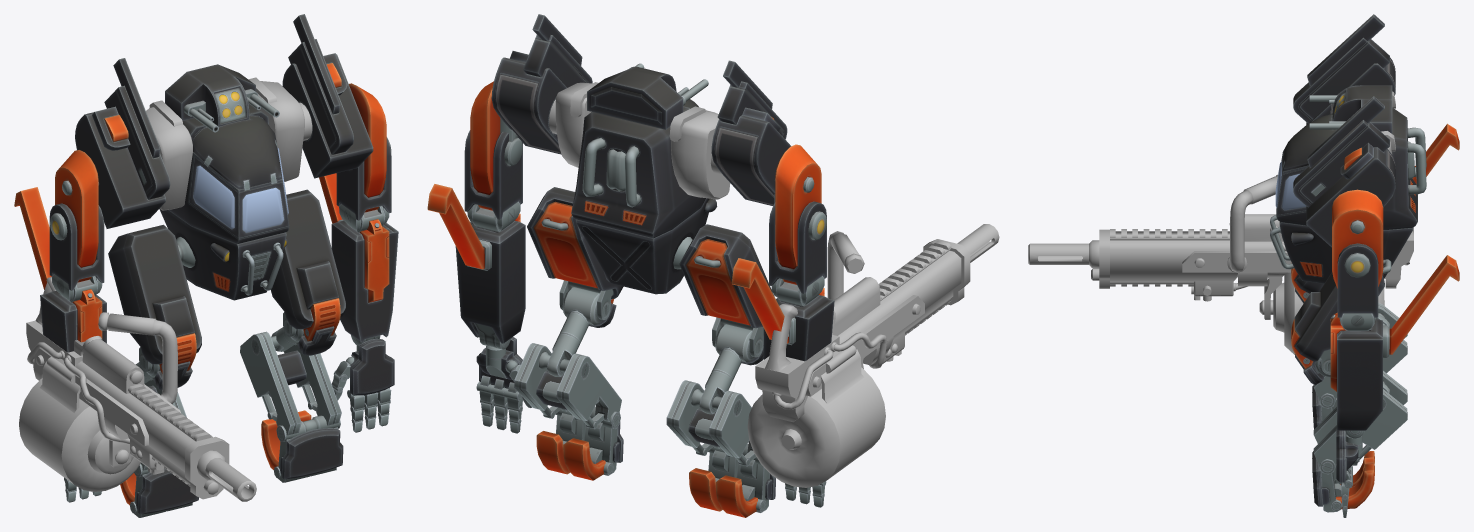
The model's file is robot_2_destroy.fbx.
The picture shows the model from 3 angles, left to right: view 1: azimuth 30°, elevation 25°; view 2: azimuth 150°, elevation 25°; view 3: azimuth 270°, elevation 25°; orthographic projection. The views are drawn at different scales.
Visible parts, largest first — view 1: gun_2, thigh, shoulder_pad, body_module.002, forearm, arm, foot, shin, butt_module, polySurface4, polySurface1, palm (+1 smaller); view 2: gun_2, body_module.002, arm, shoulder_pad, forearm, thigh, shin, foot, butt_module, knee, polySurface1, polySurface4 (+1 smaller); view 3: gun_2, shoulder_pad, body_module.002, forearm, arm, thigh, shin, butt_module, foot, palm.
Boxes of the visible parts, x1,y1,x2,y2 form: gun_2: [19, 277, 256, 501]; thigh: [108, 189, 345, 390]; shoulder_pad: [75, 14, 373, 228]; body_module.002: [165, 64, 289, 244]; forearm: [14, 173, 398, 352]; arm: [49, 83, 391, 302]; foot: [120, 410, 343, 517]; shin: [141, 331, 341, 470]; butt_module: [159, 208, 287, 300]; polySurface4: [248, 77, 312, 181]; polySurface1: [146, 100, 192, 210]; palm: [347, 338, 394, 398]; gun_2: [747, 224, 999, 487]; body_module.002: [571, 63, 708, 238]; arm: [464, 81, 826, 306]; shoulder_pad: [491, 14, 791, 205]; forearm: [427, 184, 834, 361]; thigh: [527, 187, 775, 365]; shin: [514, 343, 756, 466]; foot: [536, 406, 775, 517]; butt_module: [576, 198, 717, 294]; knee: [547, 287, 755, 414]; polySurface1: [669, 106, 730, 199]; polySurface4: [549, 82, 598, 167]; gun_2: [1028, 174, 1413, 354]; shoulder_pad: [1293, 14, 1395, 247]; body_module.002: [1275, 85, 1426, 229]; forearm: [1330, 123, 1459, 438]; arm: [1332, 189, 1383, 330]; thigh: [1291, 258, 1391, 384]; shin: [1313, 303, 1407, 464]; butt_module: [1270, 215, 1413, 283]; foot: [1312, 385, 1374, 512]; palm: [1336, 428, 1362, 488].
Size of the model in its own units: 10366 by 12099 by 11489.
